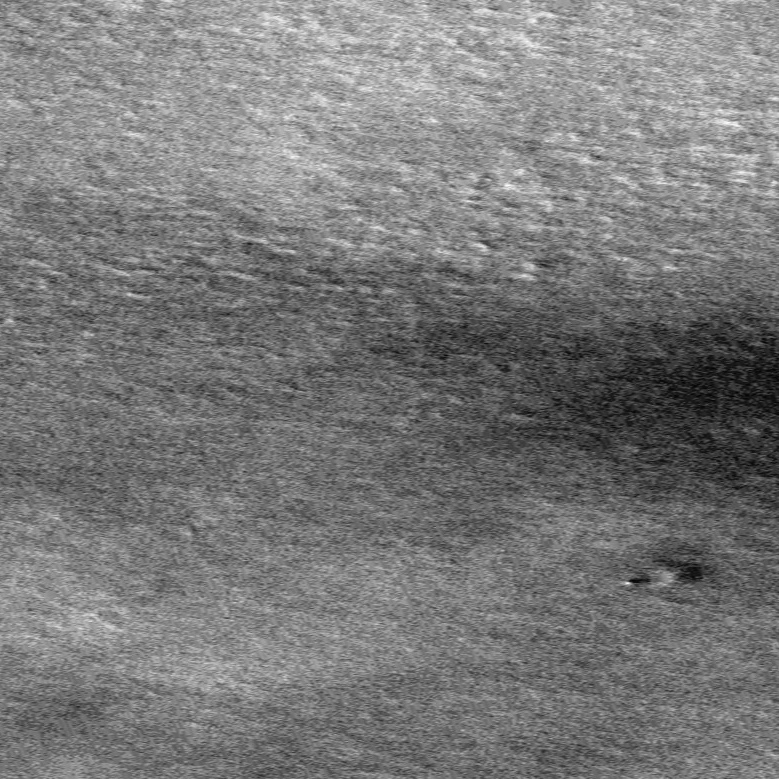dust_devil: (623, 577, 650, 586)
